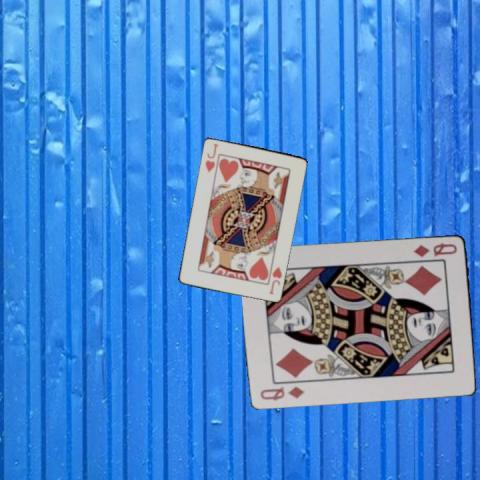Jh: (202, 140, 219, 173), (266, 264, 283, 296)
Qd: (257, 383, 307, 401), (411, 240, 459, 258)
